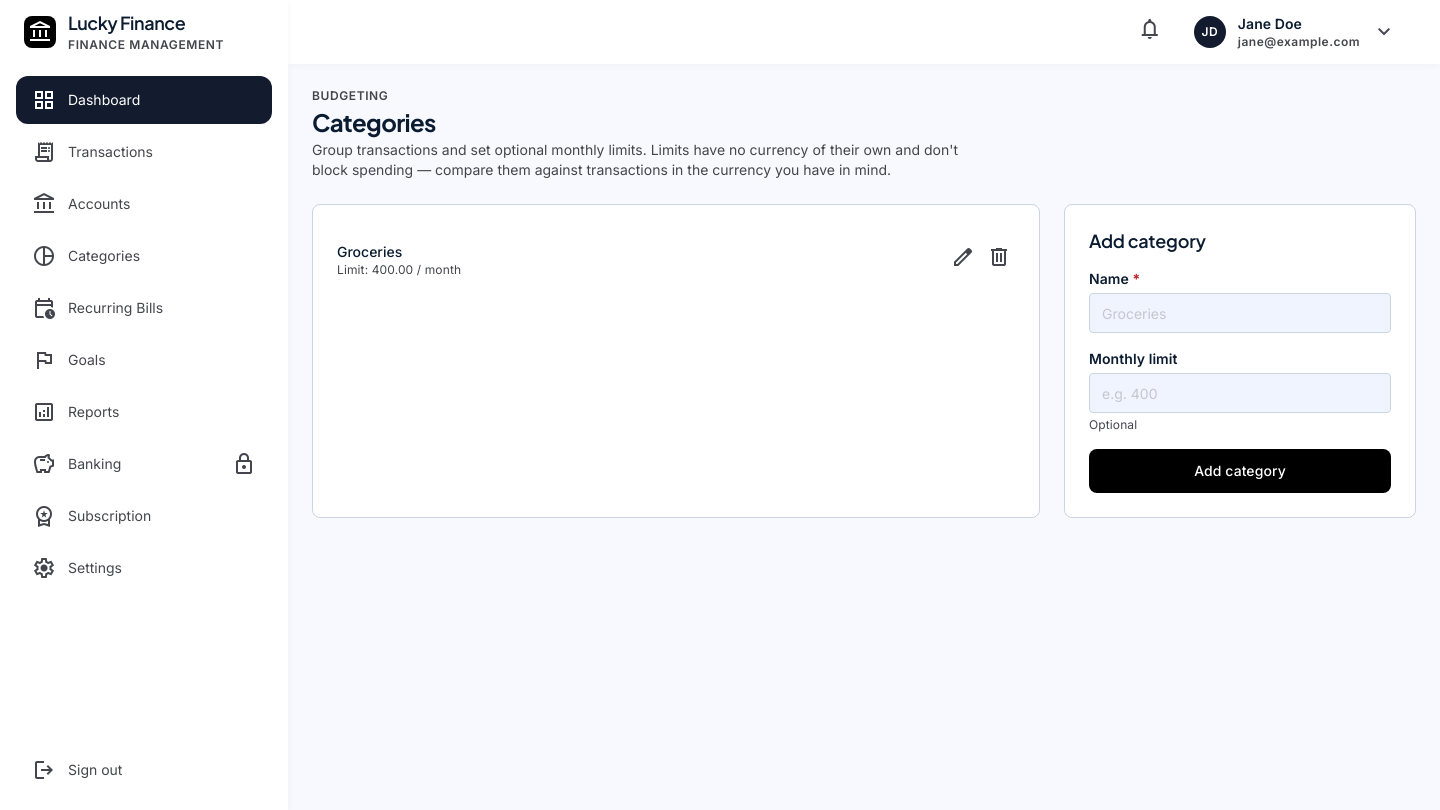
it: CategoriesPage › cancels an in-progress edit without saving
This screenshot has width=1440, height=810.
Expected: the text "Groceries" is shown, [337,243,402,260]
Click the button titled "Edit": (963, 260) [947,241,979,279]
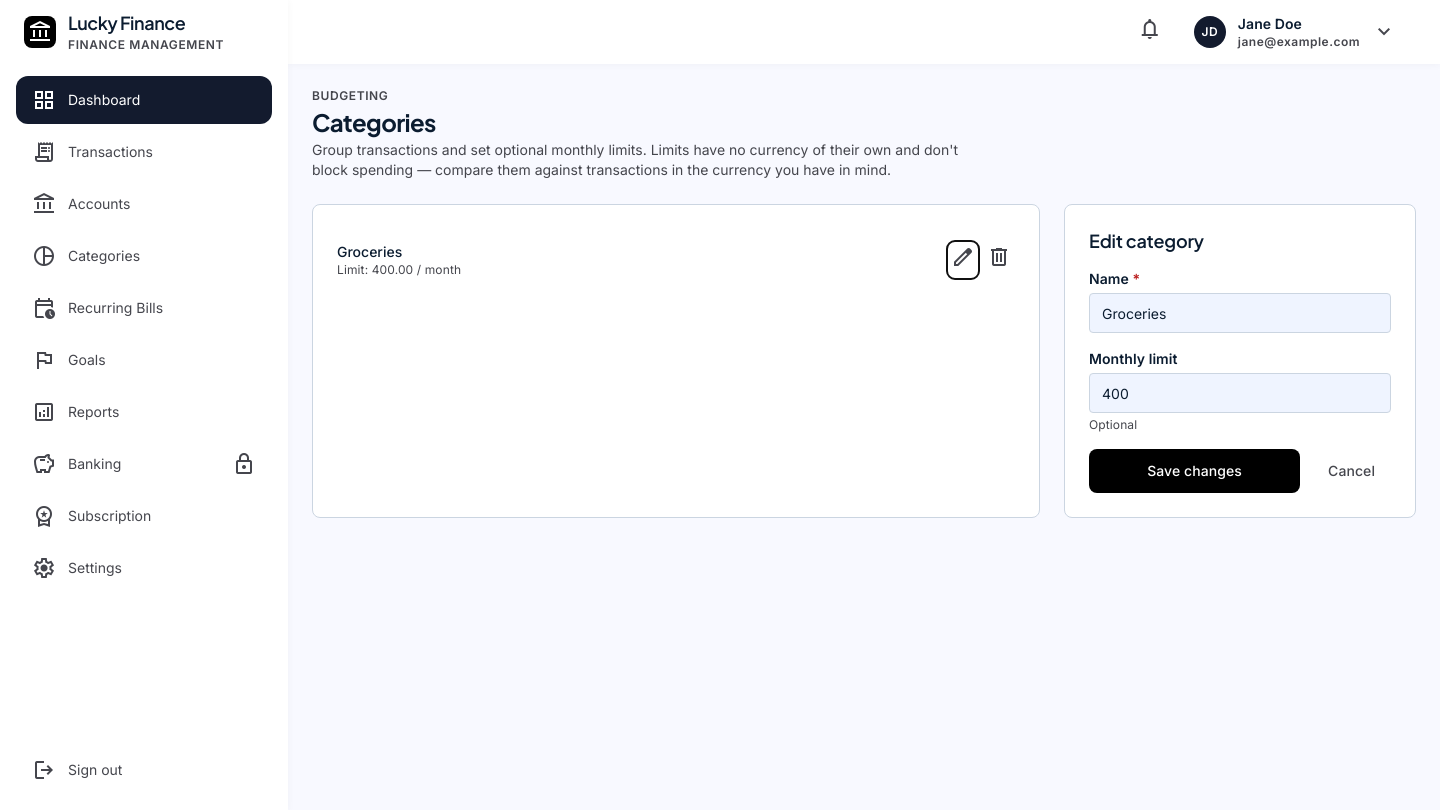
In the field labelled "Name *": (1240, 313) [1089,293,1391,333], type "Something else"
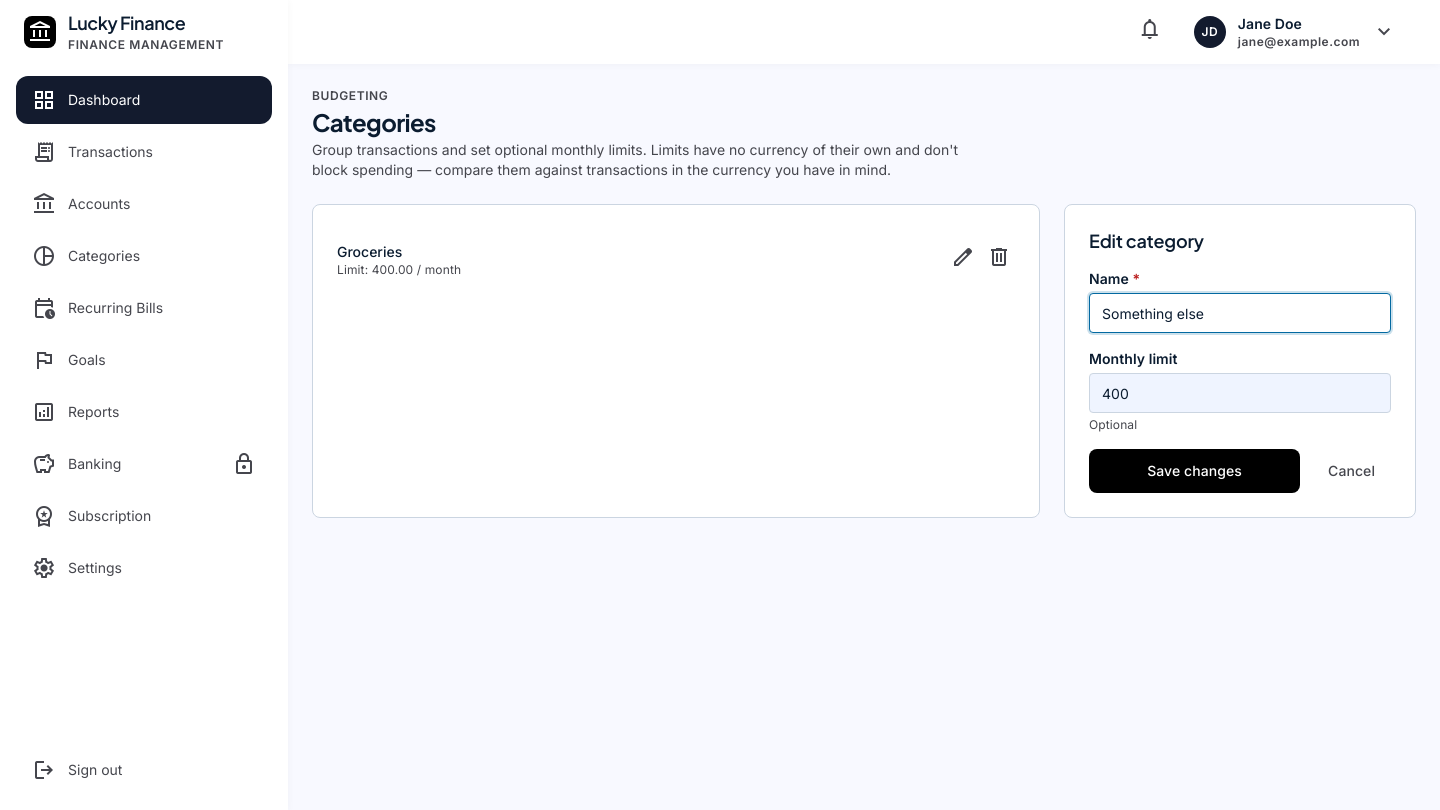
Click the button "Cancel": (1352, 471) [1312,449,1391,493]
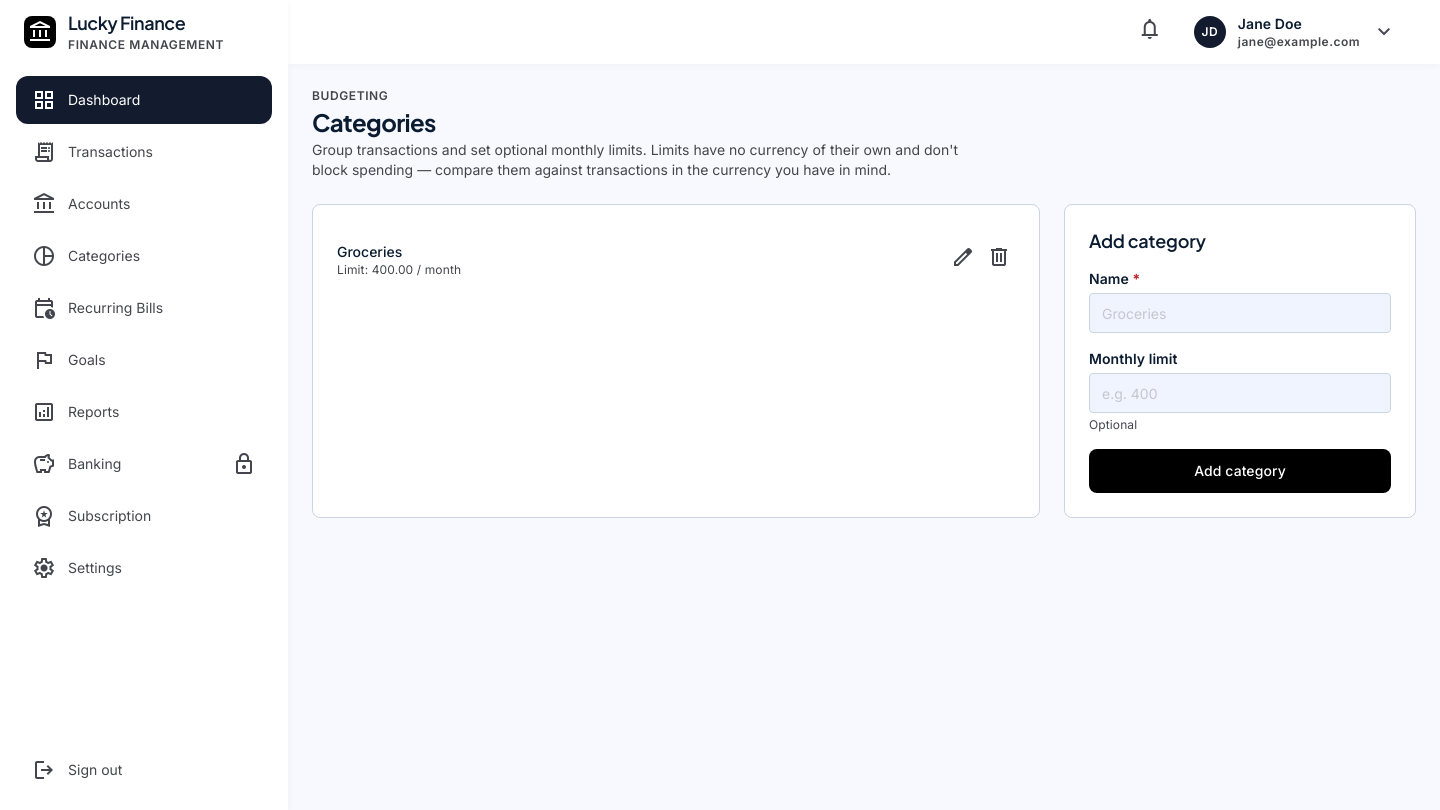
Expected: the text "Groceries" is shown, [337,243,402,260]
Expected: the heading "Add category" is shown, [1089,229,1206,252]
